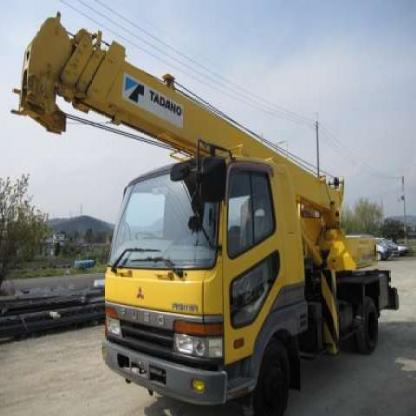truck: (11, 17, 400, 407)
